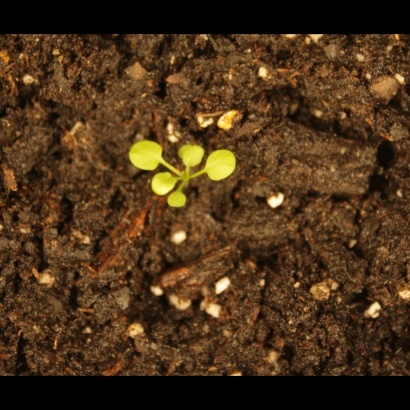leaf: (203, 146, 240, 184), (129, 137, 165, 173), (151, 167, 176, 196), (166, 187, 192, 212), (180, 144, 205, 170)
